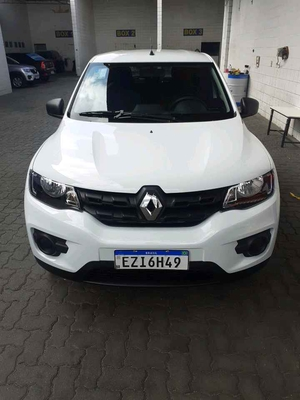Frontal Veiculo: (22, 56, 282, 280)
